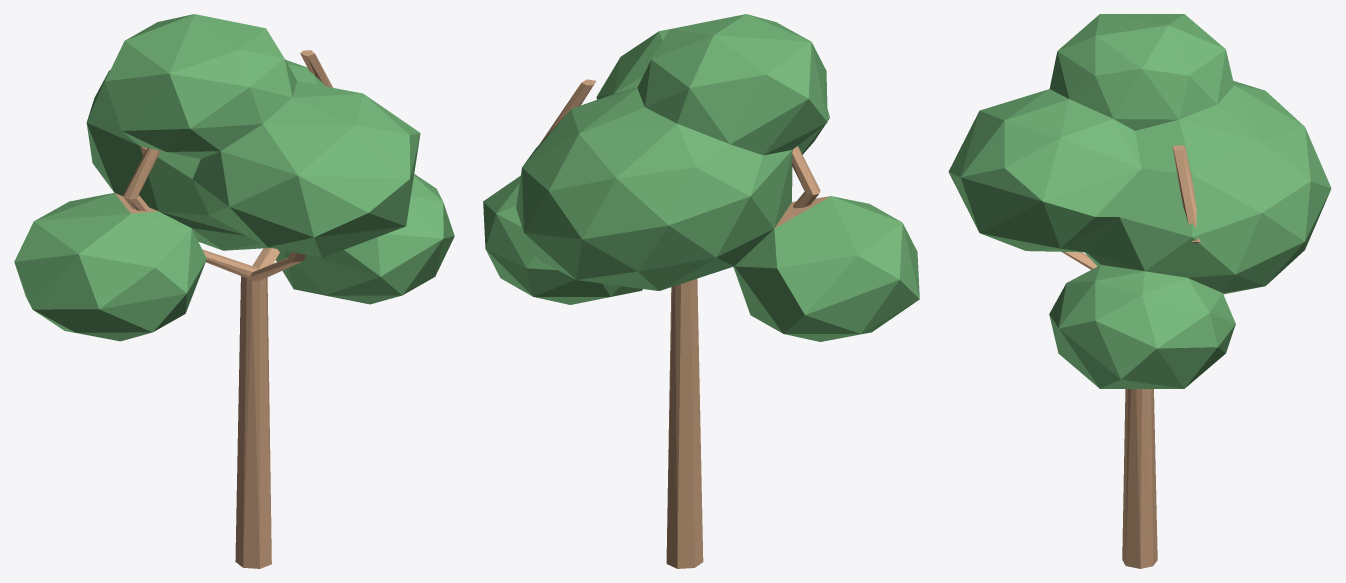
Rendered from tree30.fbx.
3 views of the same model, side by side, from view 1: azimuth 30°, elevation 25°; view 2: azimuth 150°, elevation 25°; view 3: azimuth 270°, elevation 25° (orthographic). The views are drawn at different scales.
Parts seen in each view (by area): view 1: treetype30; view 2: treetype30; view 3: treetype30.
Boxes of the visible parts, bbox=[...] form: treetype30: bbox=[14, 14, 454, 568]; treetype30: bbox=[483, 14, 919, 568]; treetype30: bbox=[948, 14, 1331, 568].
Size of the model in its own units: 151 by 188 by 126.
